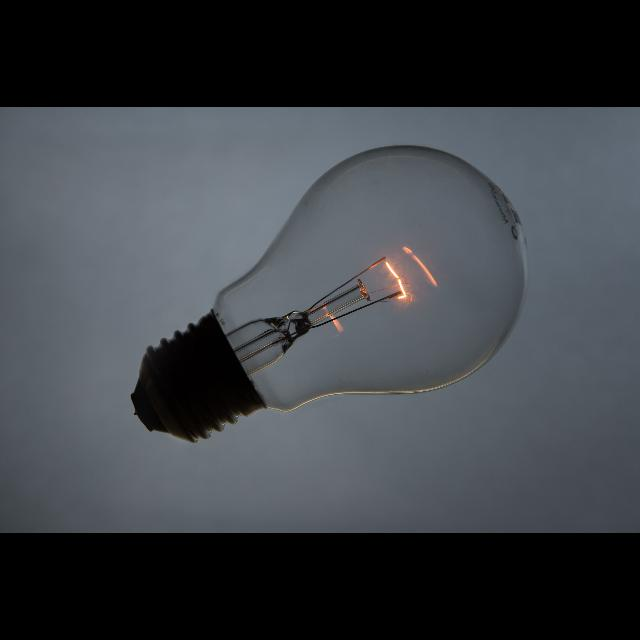light_bulb: (130, 138, 536, 446)
